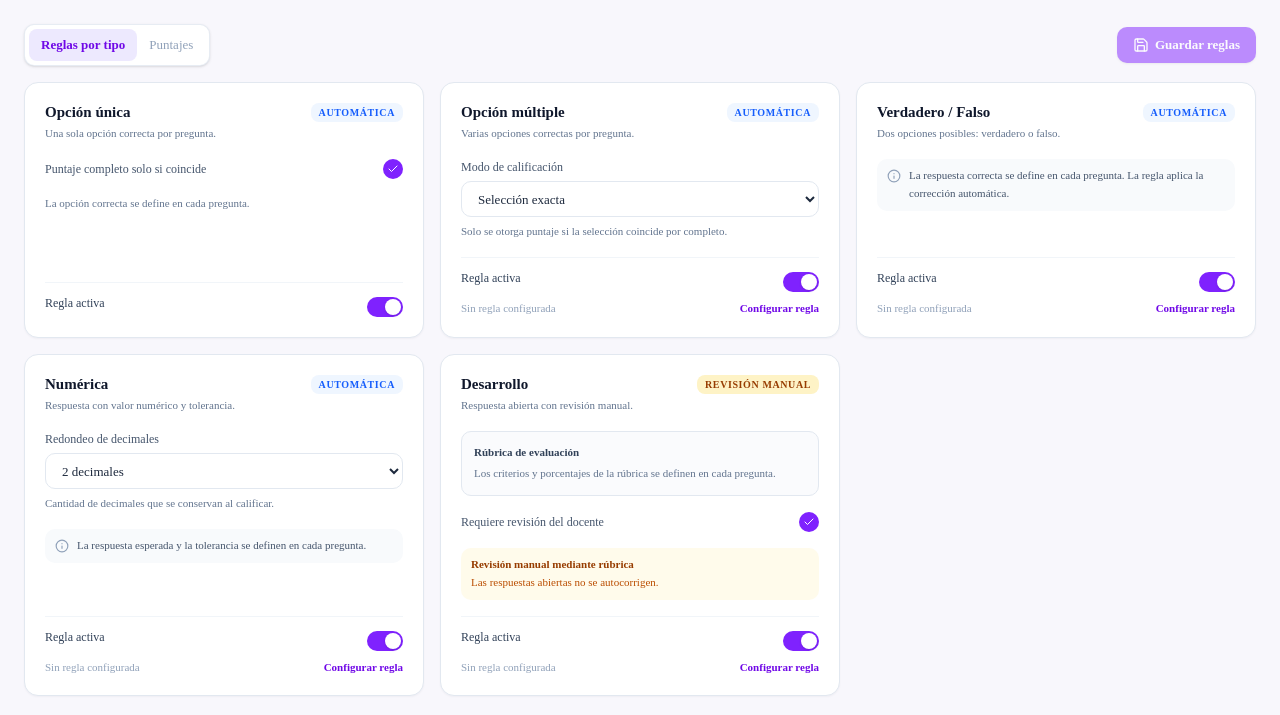
Test: ReglasCorreccion › cancela una edición y recupera la configuración guardada
The width and height of the screenshot is (1280, 715).
Expected: the element "Opción única" is shown, [24,82,424,338]
Click the checkbox labelled "Regla activa" below "Puntaje completo solo si coincide" at (75,302), box [45,294,105,310]
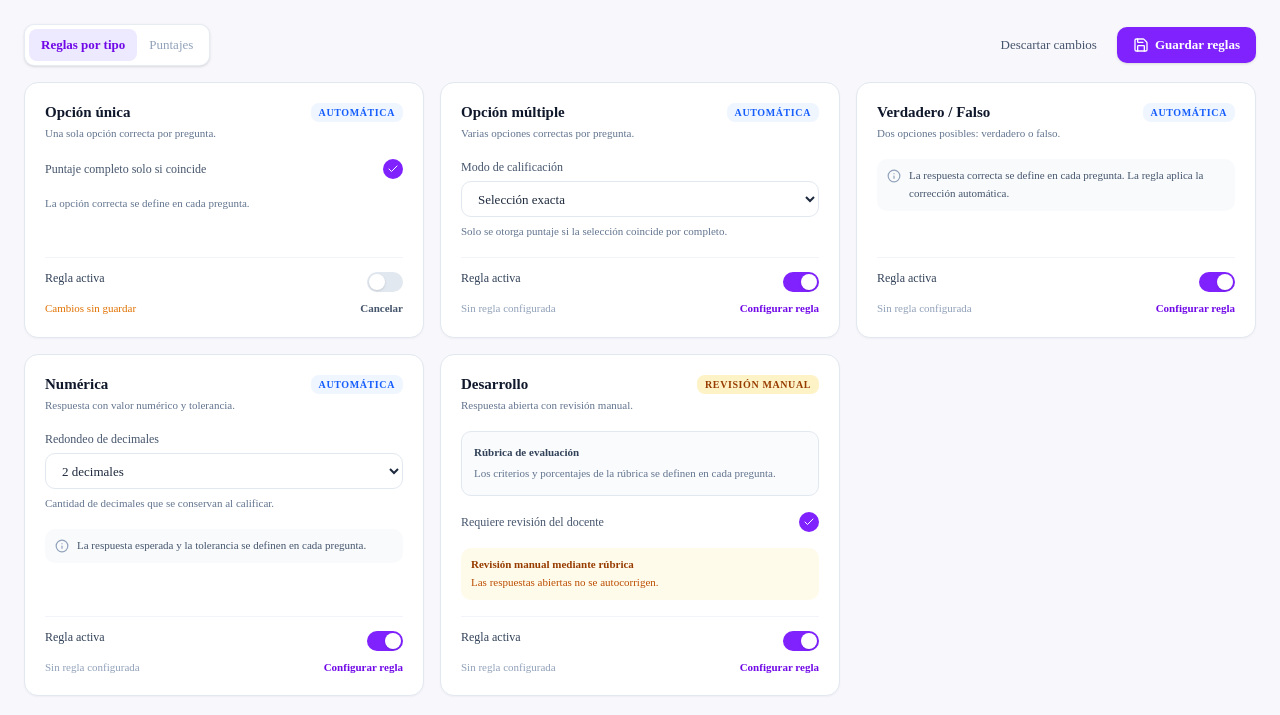
Expected: the checkbox labelled "Regla activa" below "Puntaje completo solo si coincide" is not checked, [45,270,105,286]
Expected: the button "Guardar reglas" is enabled, [1117,27,1256,63]
Click the button "Cancelar" at (382,308), box [360,300,403,316]
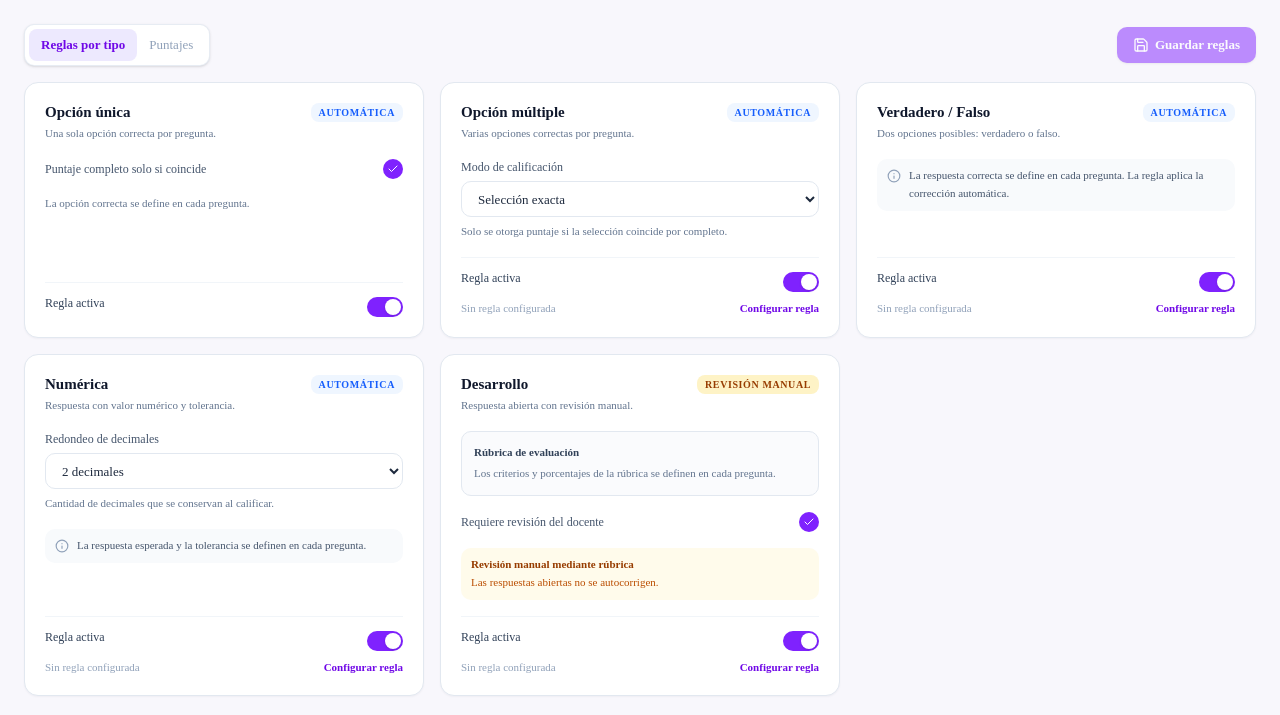
Expected: the checkbox labelled "Regla activa" below "Puntaje completo solo si coincide" is checked, [45,294,105,310]
Expected: the button "Guardar reglas" is disabled, [1117,27,1256,63]
